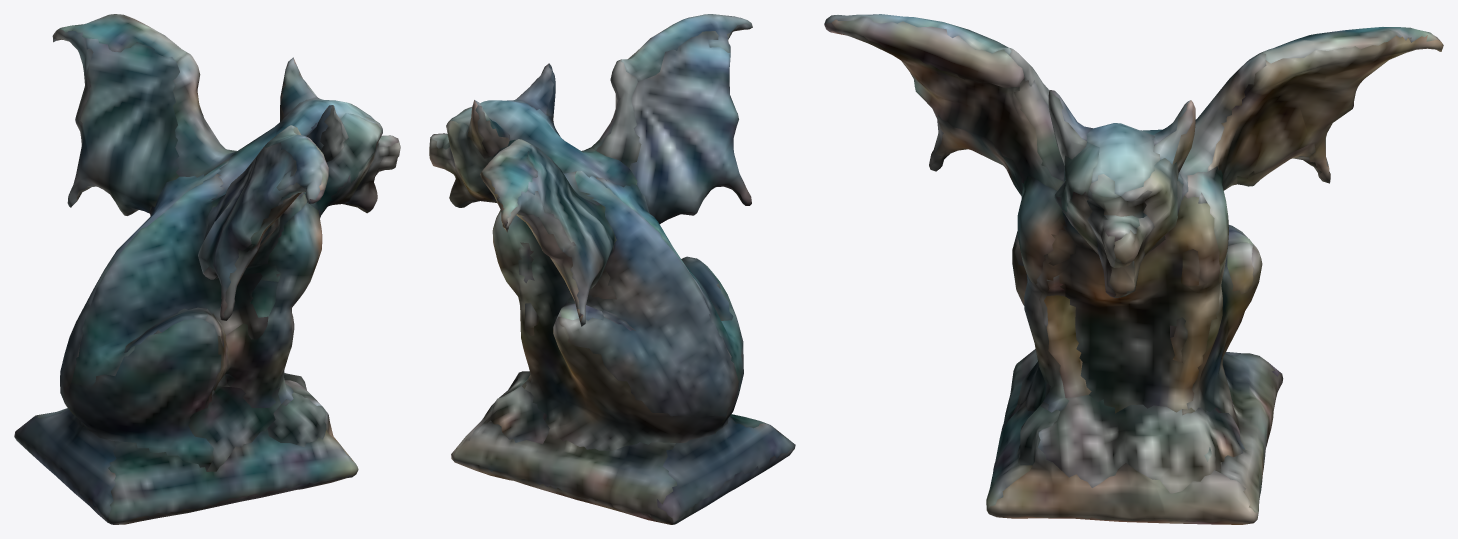
File: gargoyle2.glb
3 renders of one model, left to right at view 1: azimuth 30°, elevation 25°; view 2: azimuth 150°, elevation 25°; view 3: azimuth 270°, elevation 25°, orthographic. The views are drawn at different scales.
Parts seen in each view (by area): view 1: Object_2; view 2: Object_2; view 3: Object_2.
Part boxes in pixels (<box>): Object_2: <box>14,14,400,524</box>; Object_2: <box>429,14,795,524</box>; Object_2: <box>824,14,1443,524</box>.
Bounding box in the file's own units: 0.9042 × 1.03 × 1.2.
1 material, 1 textured.
